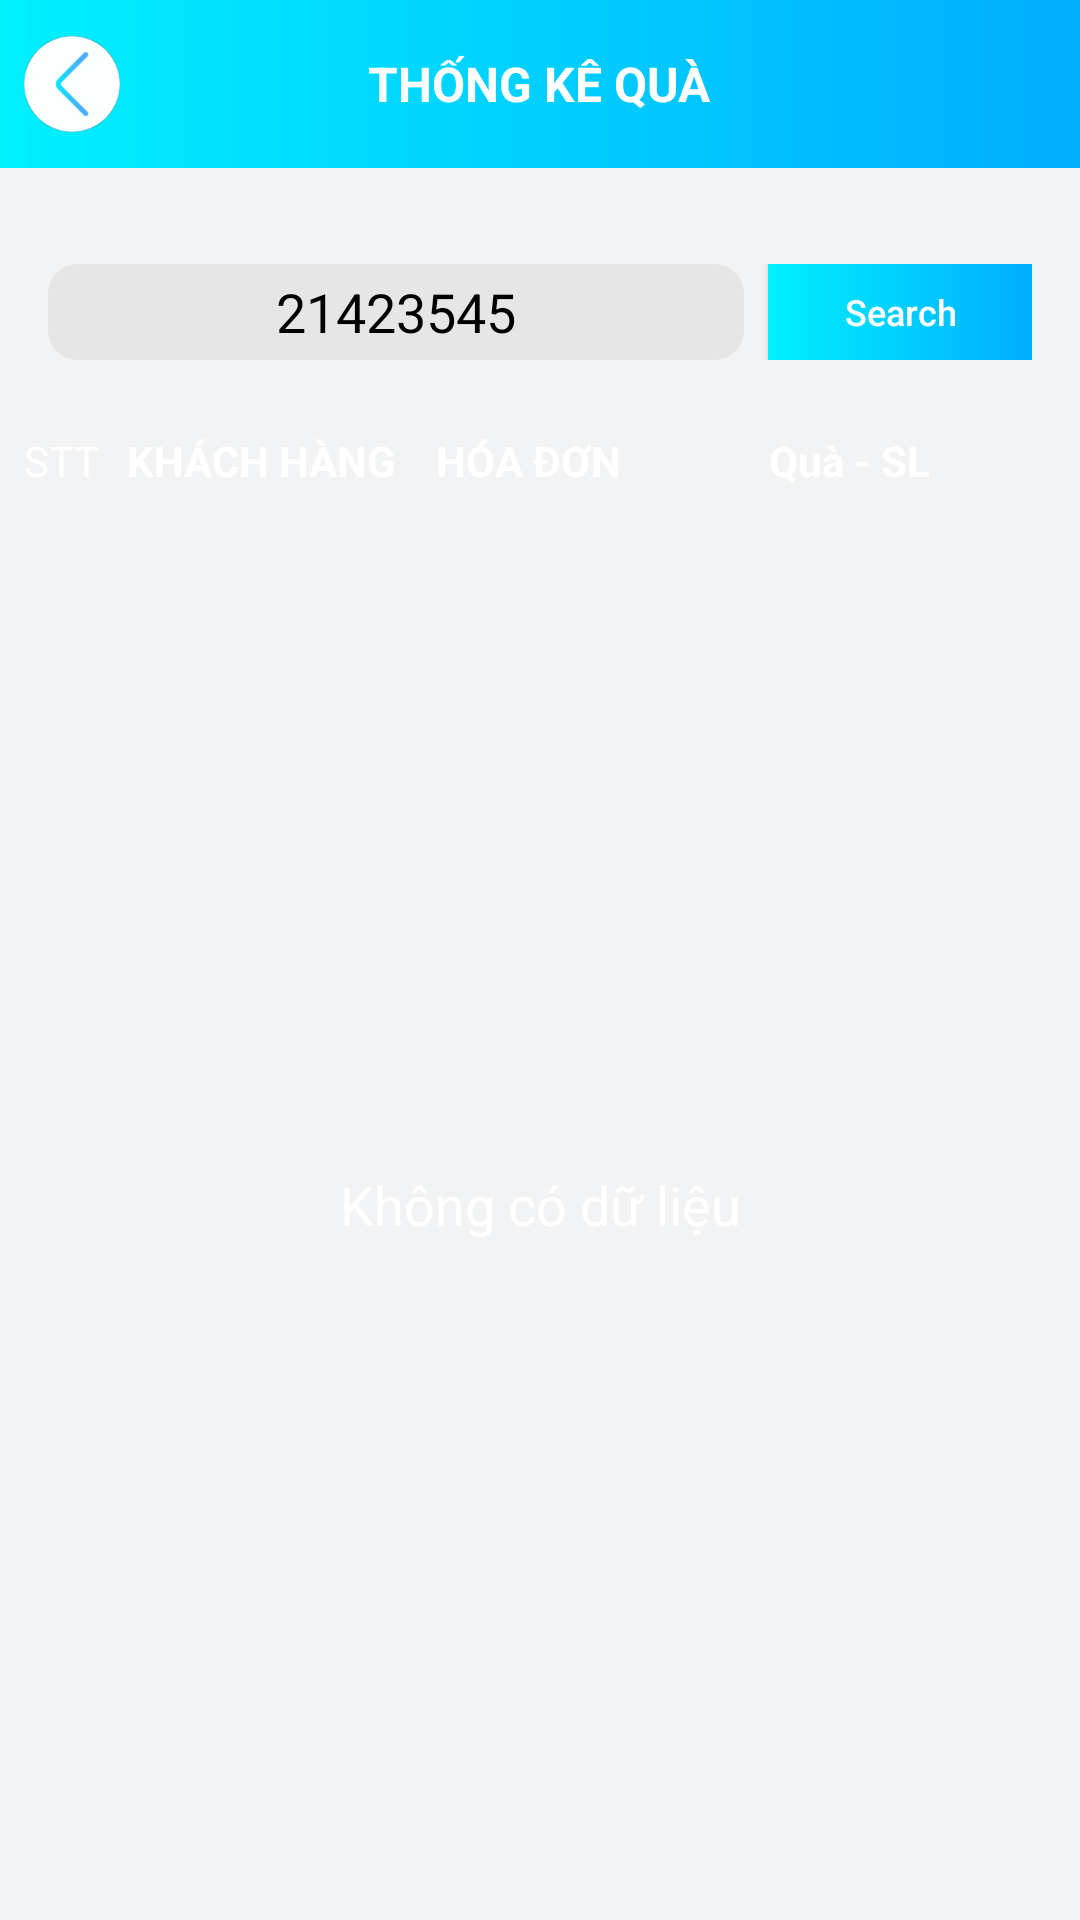

Named icons in this screenshot (1080px×1920px) and their centers, (x,y):
back: (72,84)
